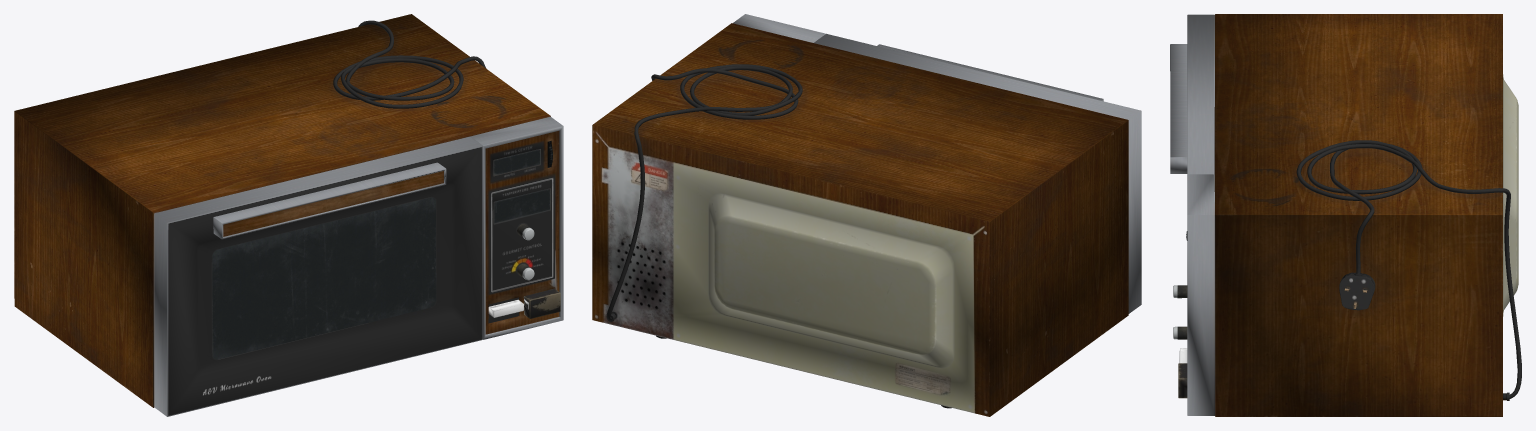
The model's file is vintage_microwave.glb.
3 renders of one model, left to right at view 1: azimuth 30°, elevation 25°; view 2: azimuth 150°, elevation 25°; view 3: azimuth 270°, elevation 25°, orthographic. The views are drawn at different scales.
Visible parts, largest first — view 1: vintage_microwave; view 2: vintage_microwave; view 3: vintage_microwave.
Boxes of the visible parts, box(x1,y1,x2,y2) form: vintage_microwave: box(14, 14, 563, 416); vintage_microwave: box(592, 14, 1141, 416); vintage_microwave: box(1170, 14, 1521, 416).
Bounding box in the file's own units: 1.07 × 0.5258 × 0.7451.
2 materials, 2 textured.
